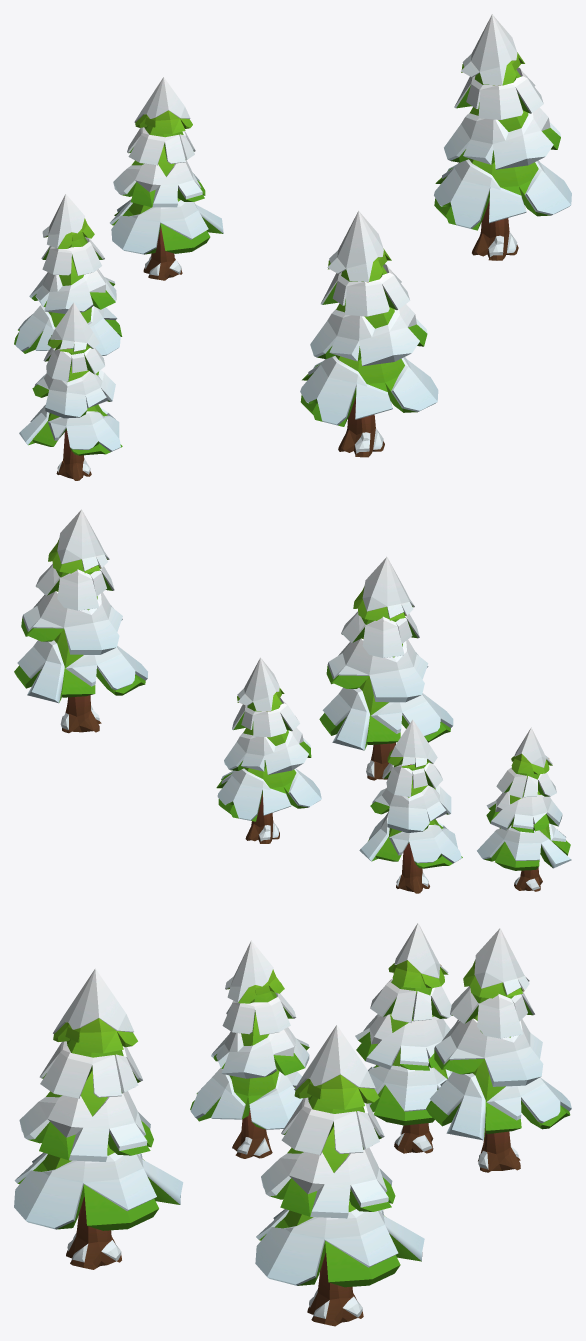
The picture shows the model from 3 angles, top to bottom: view 1: azimuth 30°, elevation 25°; view 2: azimuth 150°, elevation 25°; view 3: azimuth 270°, elevation 25°; orthographic projection. The views are drawn at different scales.
Visible parts, largest first — view 1: SnowyTree (9), SnowyTree (6), SnowyTree (7), SnowyTree (8), SnowyTree (10); view 2: SnowyTree (6), SnowyTree (9), SnowyTree (7), SnowyTree (10), SnowyTree (8); view 3: SnowyTree (6), SnowyTree (9), SnowyTree (7), SnowyTree (8), SnowyTree (10).
Boxes of the visible parts, <box> form: SnowyTree (9): <box>300,211,438,457</box>; SnowyTree (6): <box>434,14,571,260</box>; SnowyTree (7): <box>110,77,223,280</box>; SnowyTree (8): <box>19,302,122,480</box>; SnowyTree (10): <box>14,194,122,355</box>; SnowyTree (6): <box>14,509,147,733</box>; SnowyTree (9): <box>319,557,453,780</box>; SnowyTree (7): <box>216,657,321,843</box>; SnowyTree (10): <box>359,719,462,893</box>; SnowyTree (8): <box>477,727,571,891</box>; SnowyTree (6): <box>255,1025,424,1326</box>; SnowyTree (9): <box>14,968,183,1269</box>; SnowyTree (7): <box>426,928,571,1172</box>; SnowyTree (8): <box>190,940,309,1158</box>; SnowyTree (10): <box>355,923,452,1153</box>.
Size of the model in its own units: 908 by 500 by 640.
Materials: 1 (1 with a texture image).
